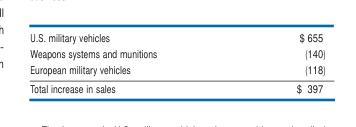table: (29, 28, 324, 95)
table column: (29, 28, 225, 95), (225, 28, 324, 95)
table row: (29, 60, 324, 78), (29, 78, 324, 95), (29, 28, 324, 44), (29, 44, 324, 60)
